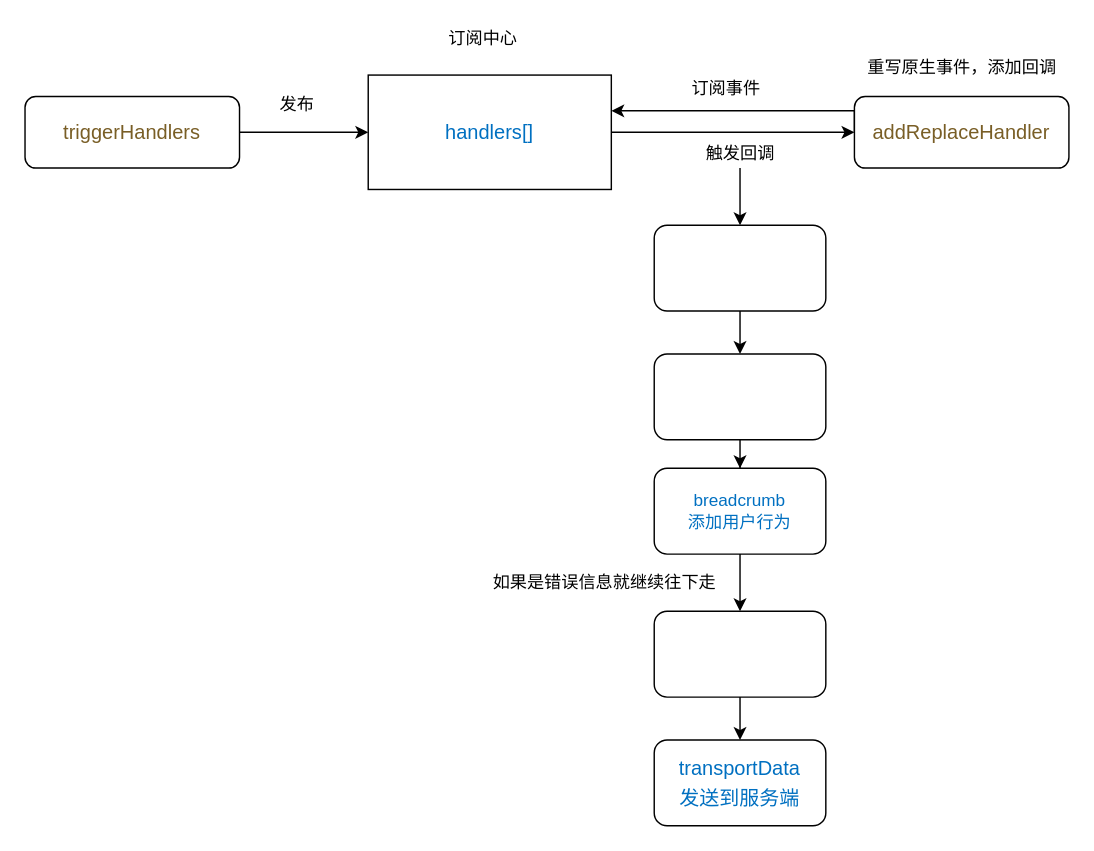
Image size: 1094x851. Some labels were removed from this diagram. Each missing label, with the centre of its shape:
"errorId 生成错误id" goes at pixel 739 653.
"HandleEvents 处理事件回调" goes at pixel 739 267.
"transformData 数据格式转换" goes at pixel 739 396.
